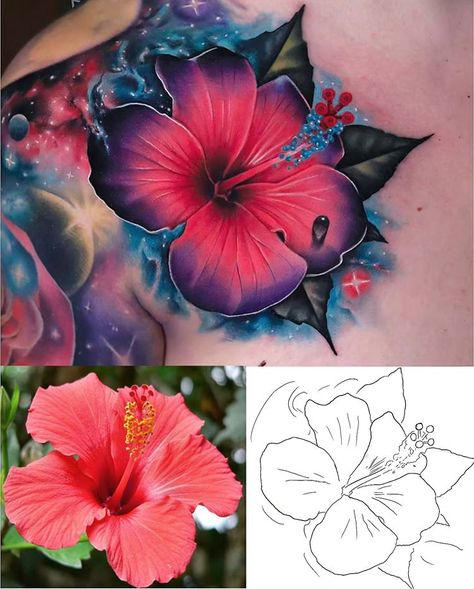Hibiscus: (100, 61, 427, 343), (3, 373, 227, 581), (268, 377, 464, 589)
